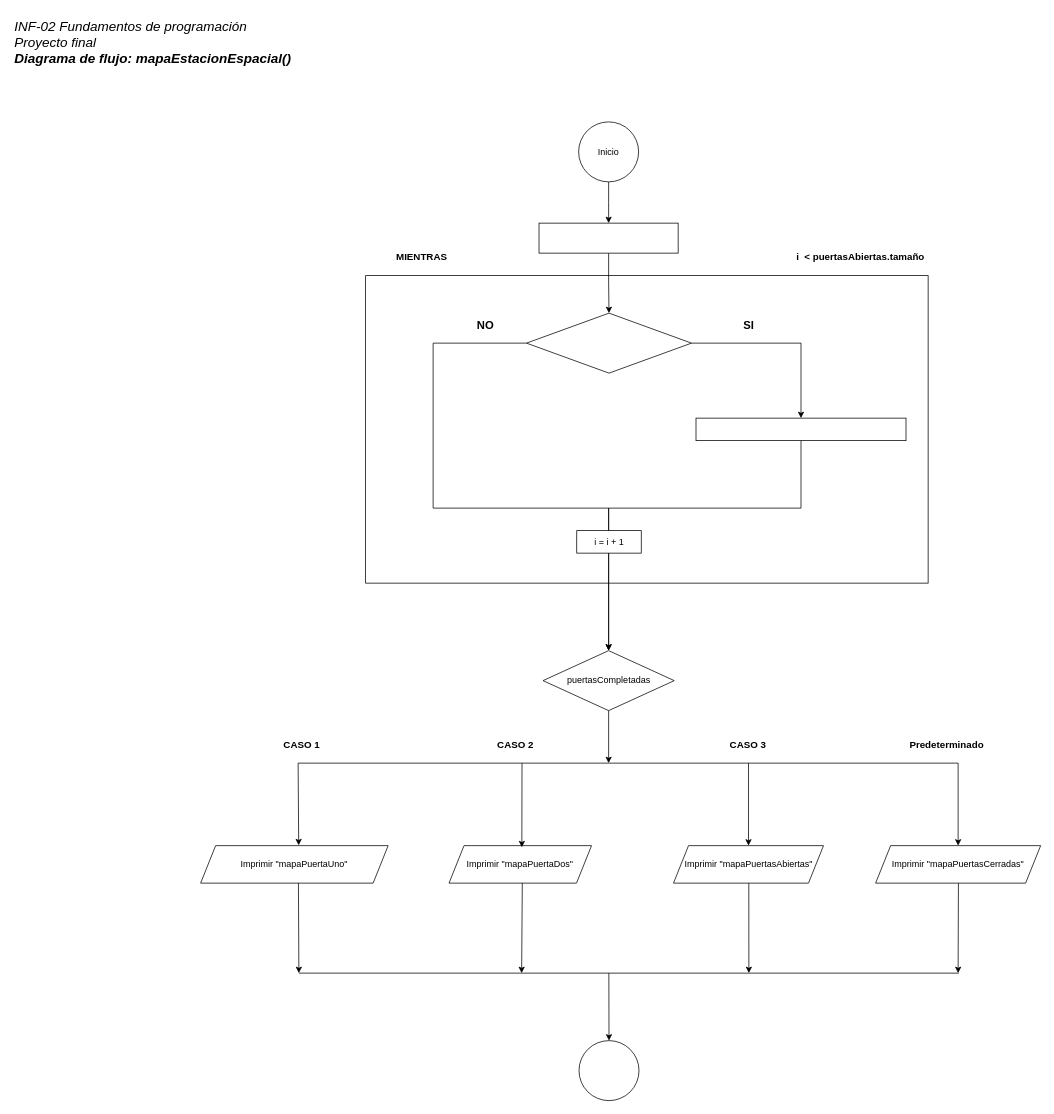
Some shapes in this 1054 by 1114 pixel diagram are drawn without their labels. Each missing label, with the centre of its shape:
Fin: point 608,1070
puertasAbiertas[ i ] == true: point 609,342
puertasCompletadas = 0 i = 0: point 608,237
puertasCompletadas = puertasCompletadas + 1: point 800,429
